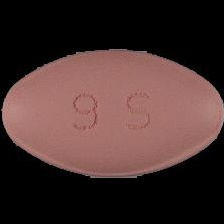70786-0006: (0, 0, 224, 224)
